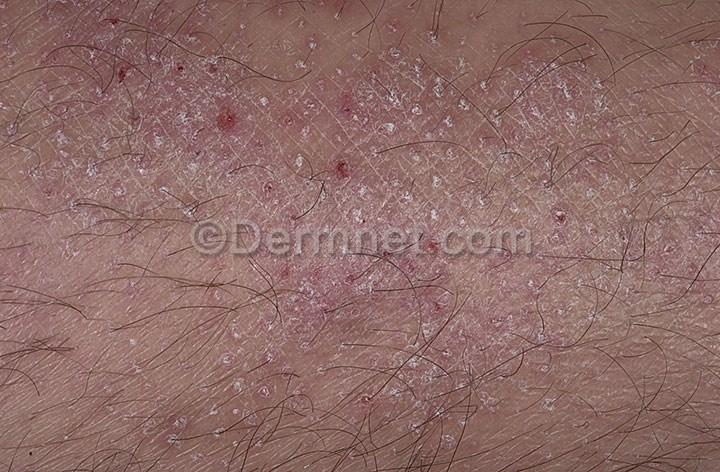Eczema: (126, 0, 642, 228), (103, 259, 649, 472), (0, 0, 125, 245), (654, 0, 720, 459)
